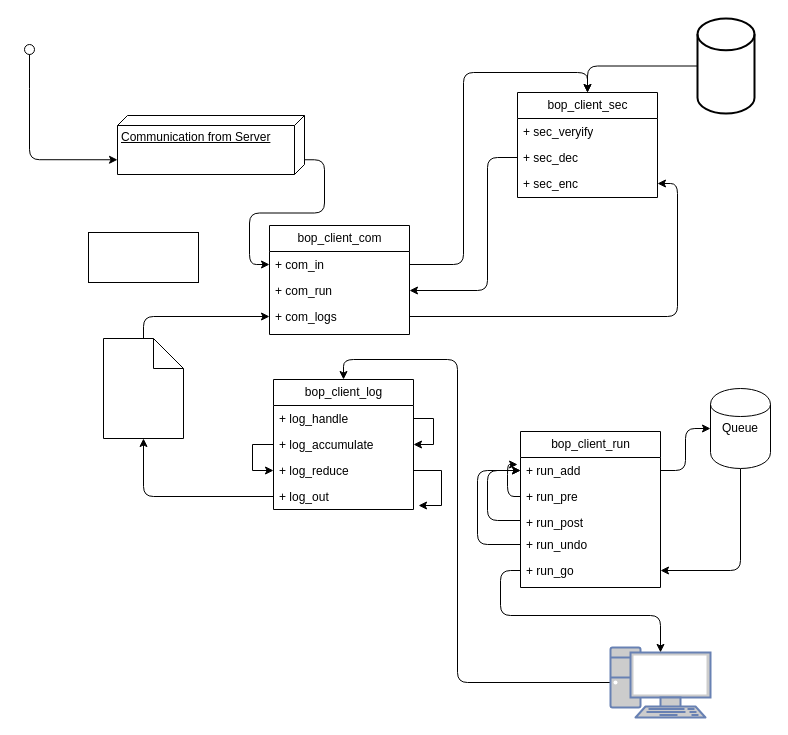
Image size: 788x735. Some labels were removed from this diagram. The centre of each missing label's shape, as x and y in pixels:
bop_server supervisor: (143,257)
Key: (725,65)
Local Log: (143,388)
